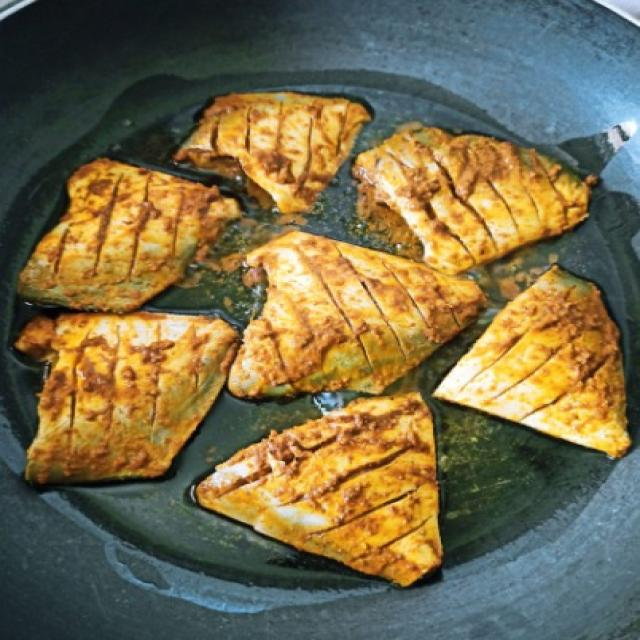FISH FRY: (2, 91, 633, 593)
